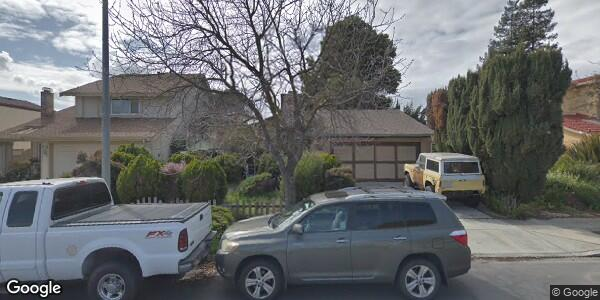Steel_Pole: (98, 2, 113, 177)
